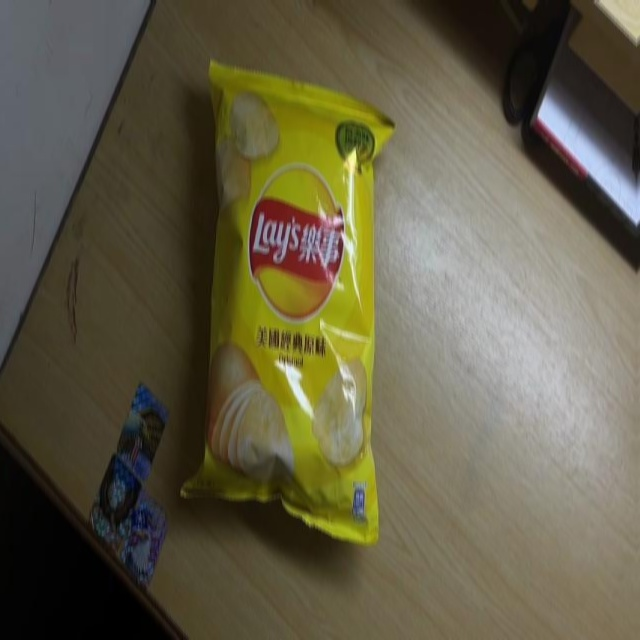Lay-s-original: (179, 60, 399, 547)
